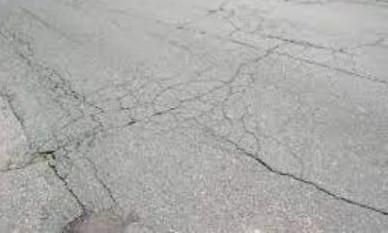alligator-crack: (30, 60, 276, 149), (180, 6, 382, 57)
